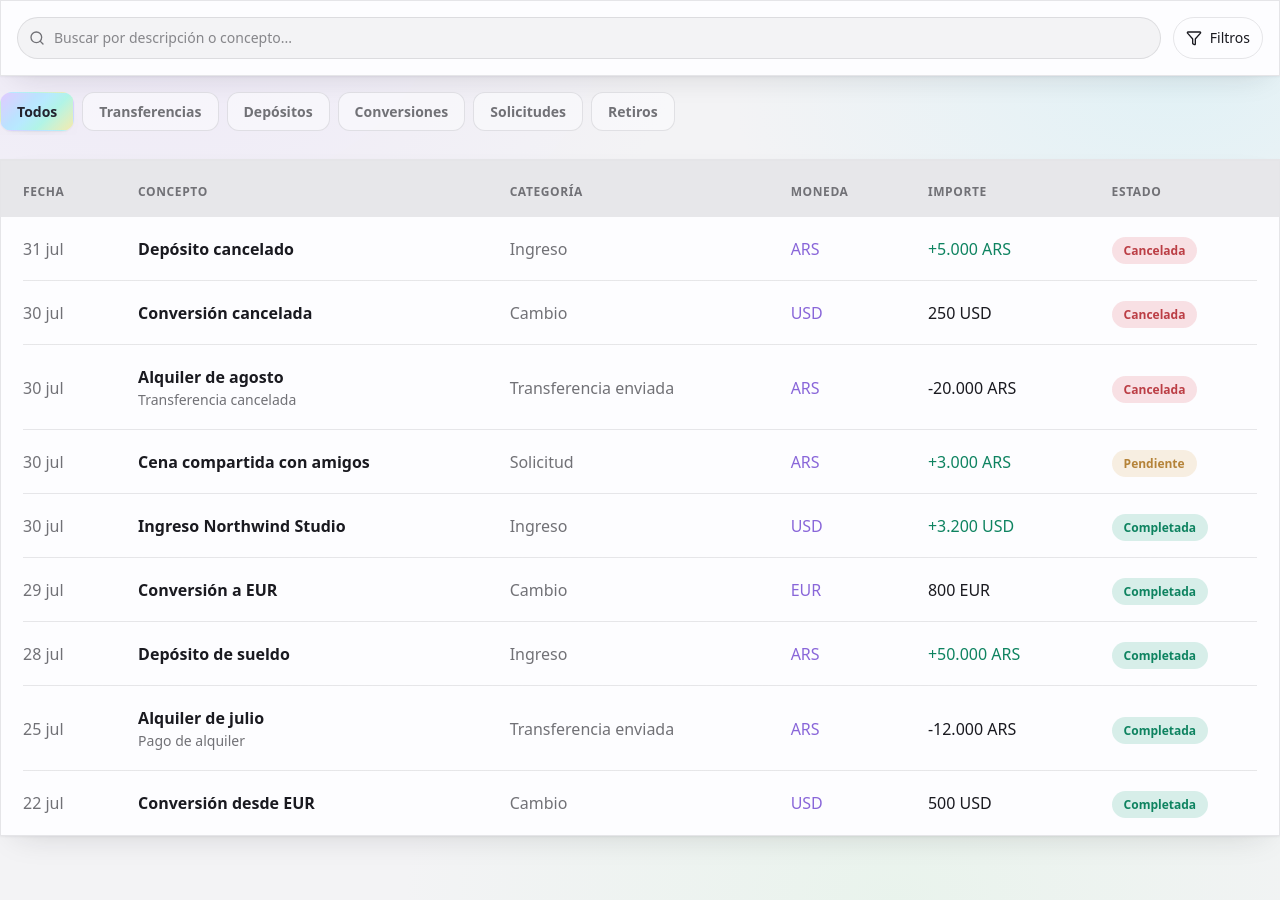
Test: Transactions › filtra con los chips de tipo
Expected: the text "Depósito de sueldo" is shown, [138, 643, 290, 665]
Click the button "Conversiones" at x=401, y=112, box [338, 92, 465, 131]
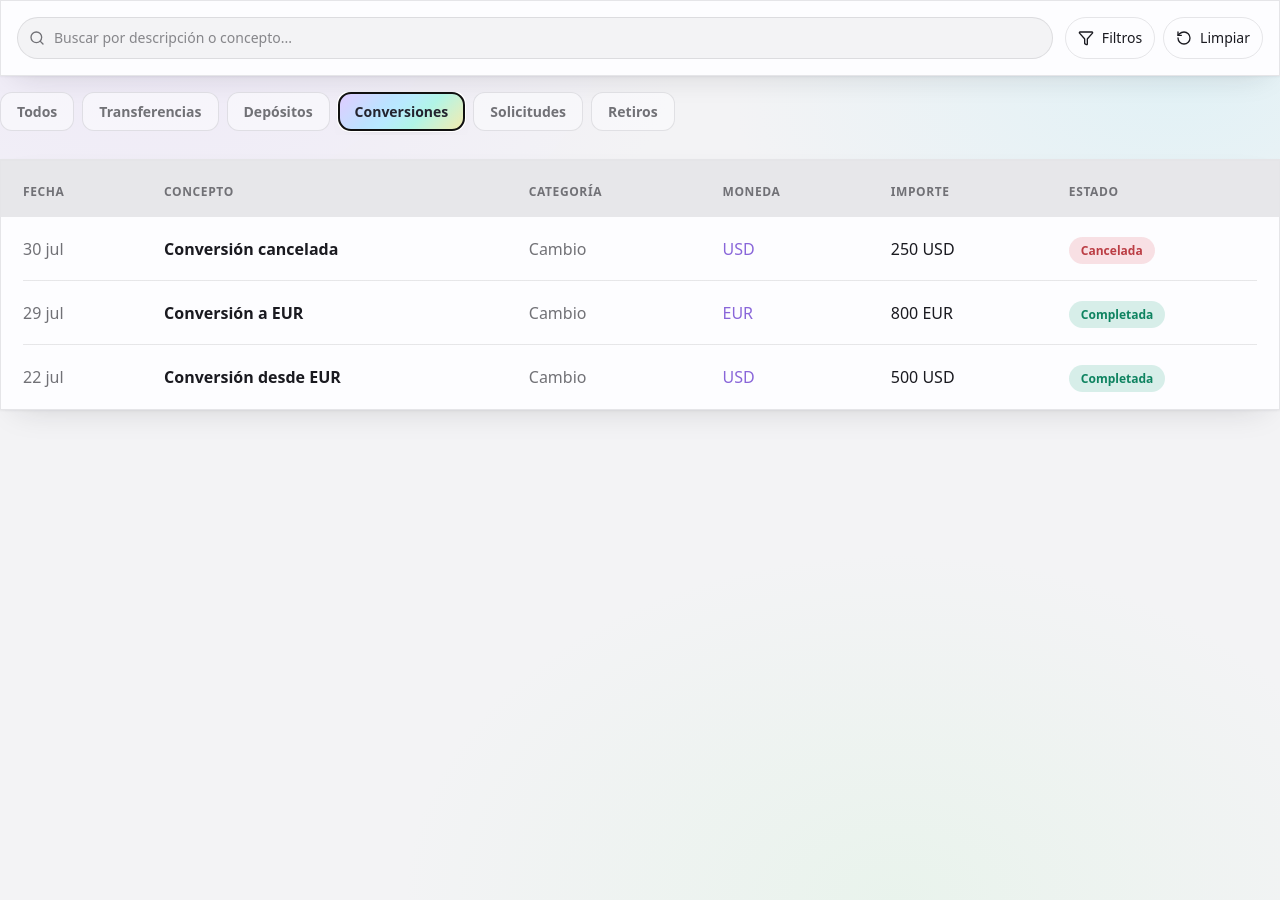
Expected: the text "Conversión desde EUR" is shown, [164, 366, 341, 388]
Now the text "Depósito de sueldo" is gone
